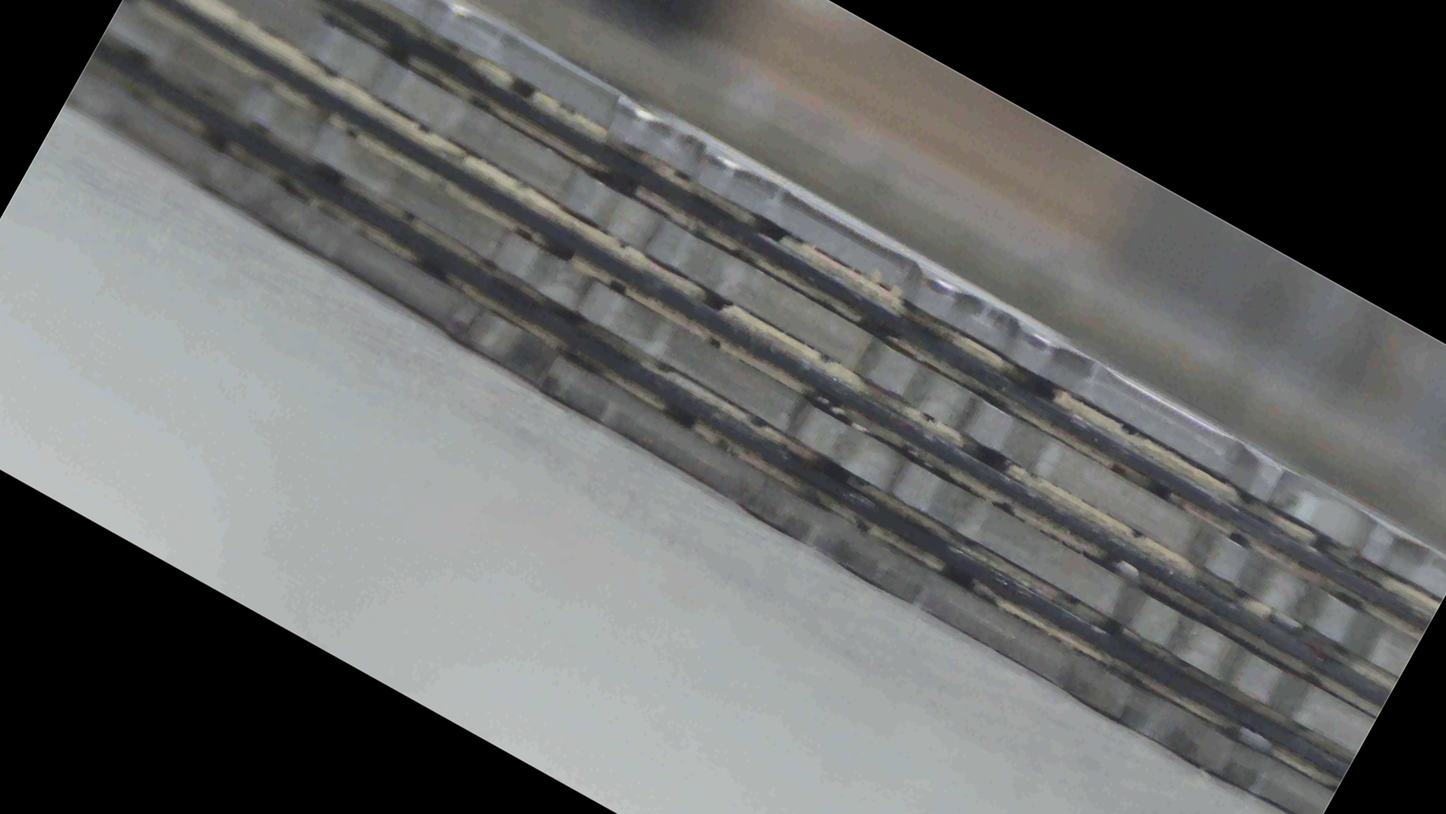Black metal plate: (70, 75, 1334, 814)
shiney metal plate: (4, 341, 1445, 406), (3, 498, 1445, 561), (4, 172, 1445, 230)
spacer: (51, 123, 1435, 539), (14, 261, 1433, 558), (15, 549, 1445, 588)
